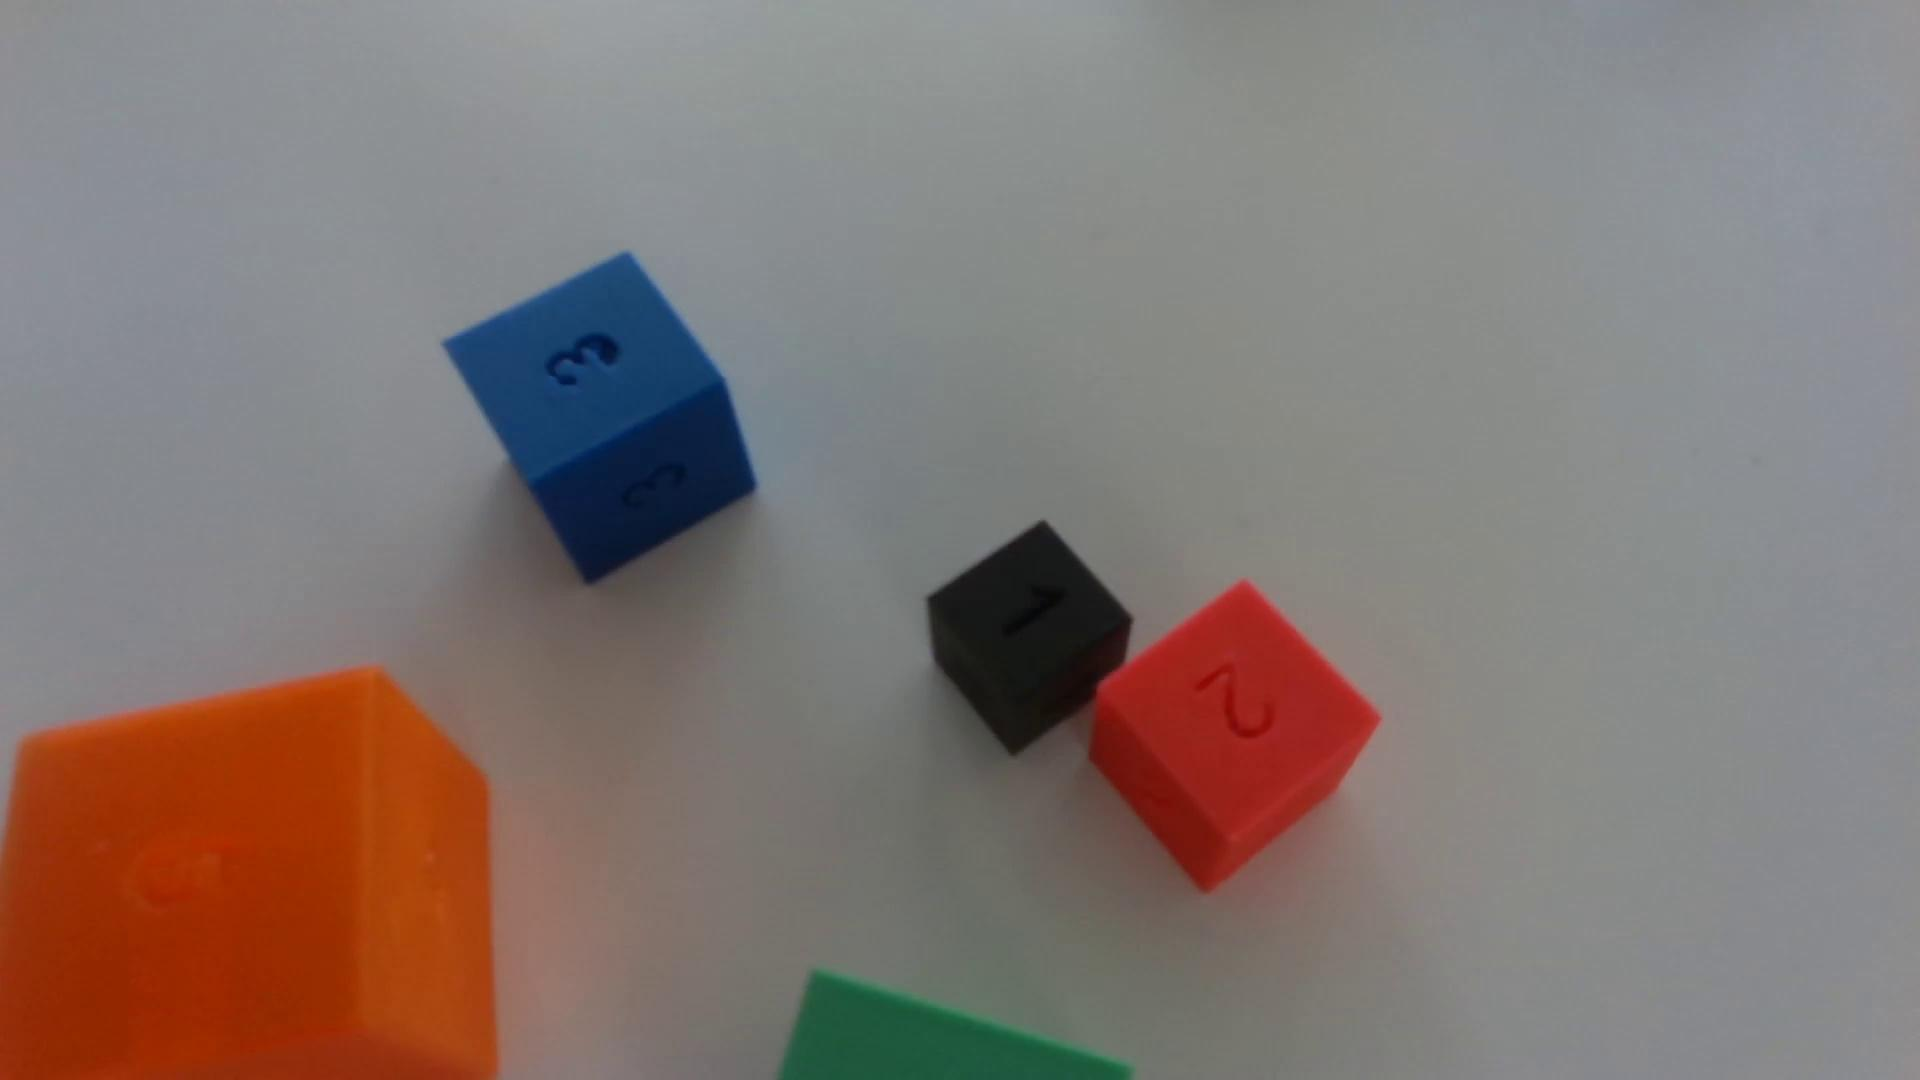black: (926, 522, 1131, 756)
blue: (444, 255, 756, 583)
green: (779, 973, 1131, 1080)
orange: (0, 669, 498, 1080)
red: (1089, 582, 1379, 891)
